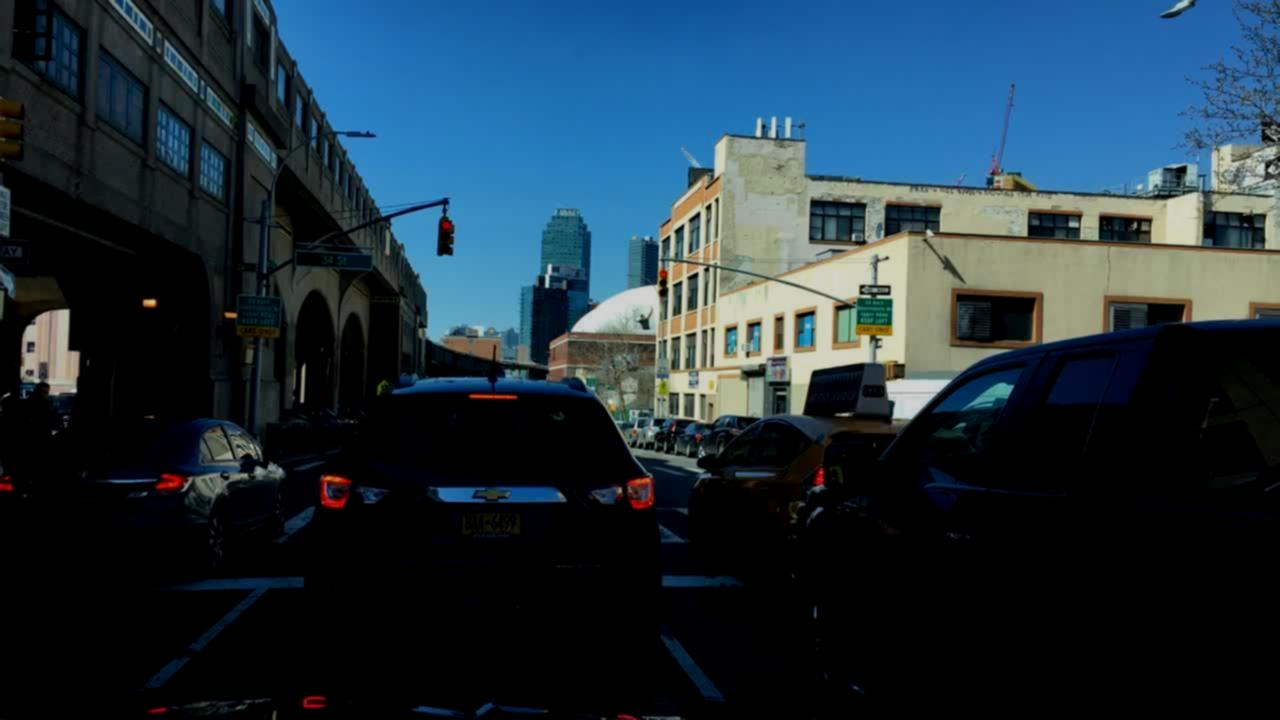Honda: (70, 467, 92, 482)
chevrolet: (470, 479, 512, 507)
